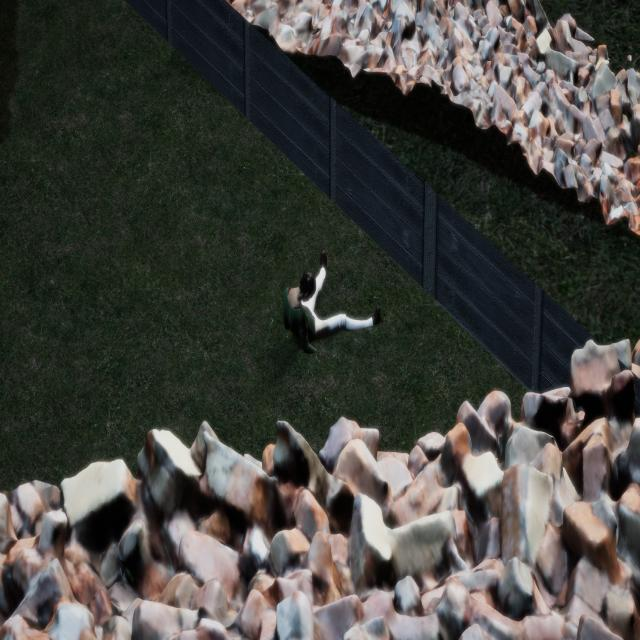Human: (277, 253, 385, 354)
